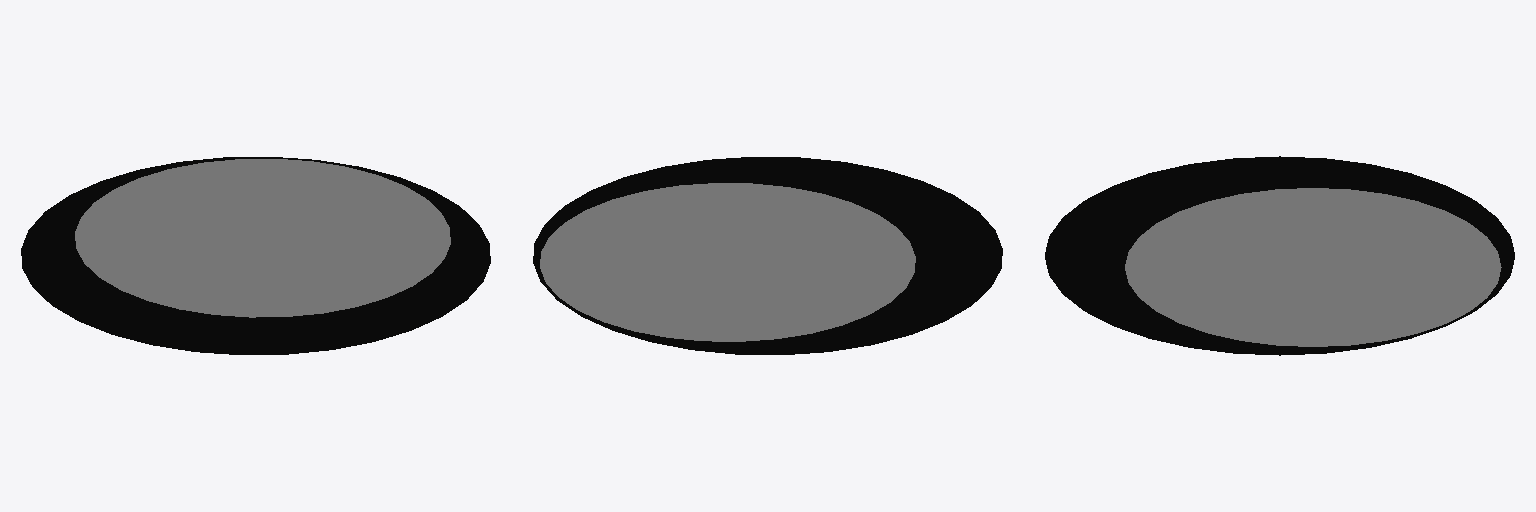
The model's file is planet.obj.
The picture shows the model from 3 angles: view 1: azimuth 30°, elevation 25°; view 2: azimuth 150°, elevation 25°; view 3: azimuth 270°, elevation 25°; orthographic projection.
Parts seen in each view (by area): view 1: Circle; view 2: Circle; view 3: Circle.
Part boxes in pixels (left/top/right/bottom): Circle: left=21, top=157, right=490, bottom=354; Circle: left=533, top=157, right=1002, bottom=354; Circle: left=1045, top=156, right=1514, bottom=355.
Size of the model in its own units: 2 by 0 by 2.